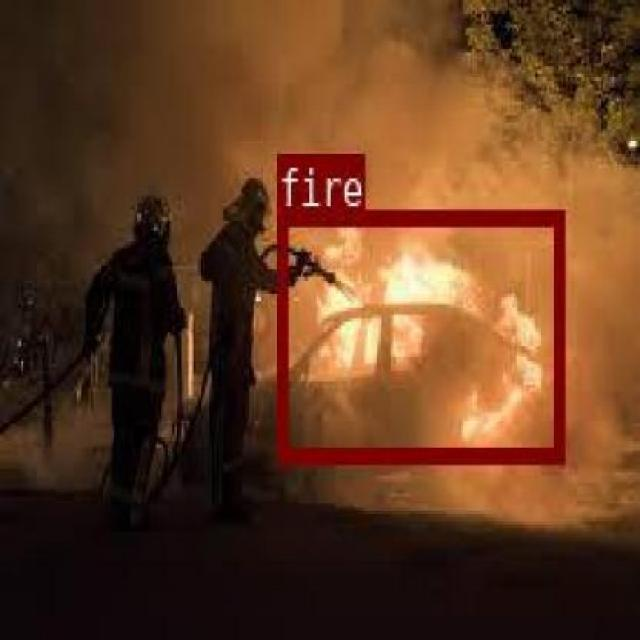Fire: (275, 210, 563, 458)
